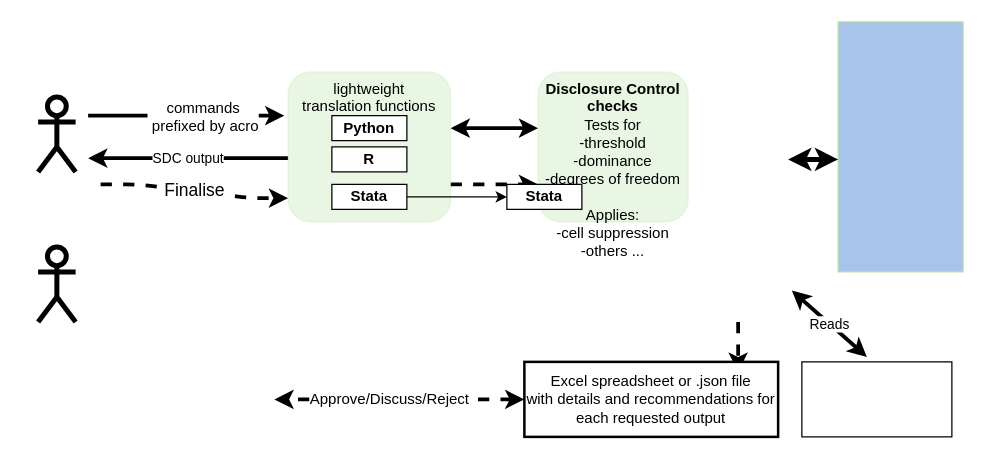
The diagram is 985 pixels wide and 460 high, and some of its shapes have lost their labels. The centre of each missing label's shape, as x and y in pixels:
researcher: (56,134)
Standard Python Libraries - pandas for tables - statsmodels for regression: (900,146)
TRE staff: (56,284)
TRE-specific file detailing risk appetite: (876,399)
